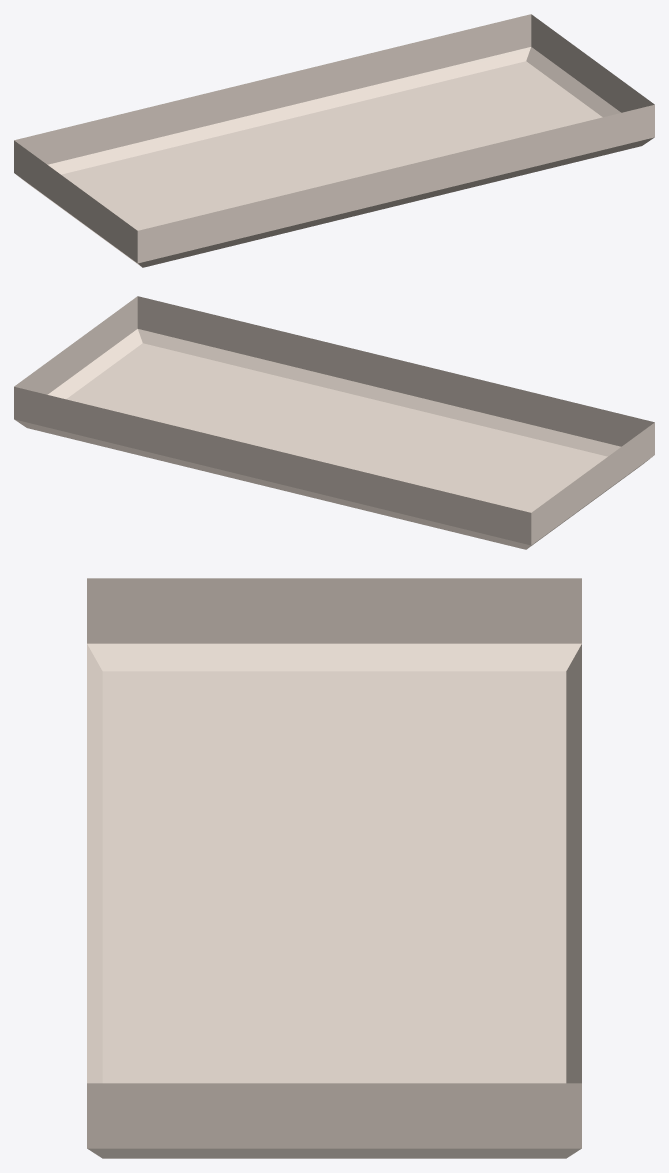
Rendered from DrwermeshSideTableDrawer_302_1_2_2_GeomSubset_1.obj.
The picture shows the model from 3 angles, top to bottom: view 1: azimuth 30°, elevation 25°; view 2: azimuth 150°, elevation 25°; view 3: azimuth 270°, elevation 25°; orthographic projection. The views are drawn at different scales.
Parts seen in each view (by area): view 1: DrwermeshSideTableDrawer_302_1_2_2_GeomSubset_1; view 2: DrwermeshSideTableDrawer_302_1_2_2_GeomSubset_1; view 3: DrwermeshSideTableDrawer_302_1_2_2_GeomSubset_1.
Boxes of the visible parts, <box> form: DrwermeshSideTableDrawer_302_1_2_2_GeomSubset_1: <box>14,14,654,267</box>; DrwermeshSideTableDrawer_302_1_2_2_GeomSubset_1: <box>14,296,654,549</box>; DrwermeshSideTableDrawer_302_1_2_2_GeomSubset_1: <box>87,578,581,1158</box>.
Bounding box in the file's own units: 0.0841 × 0.00653 × 0.0348.
